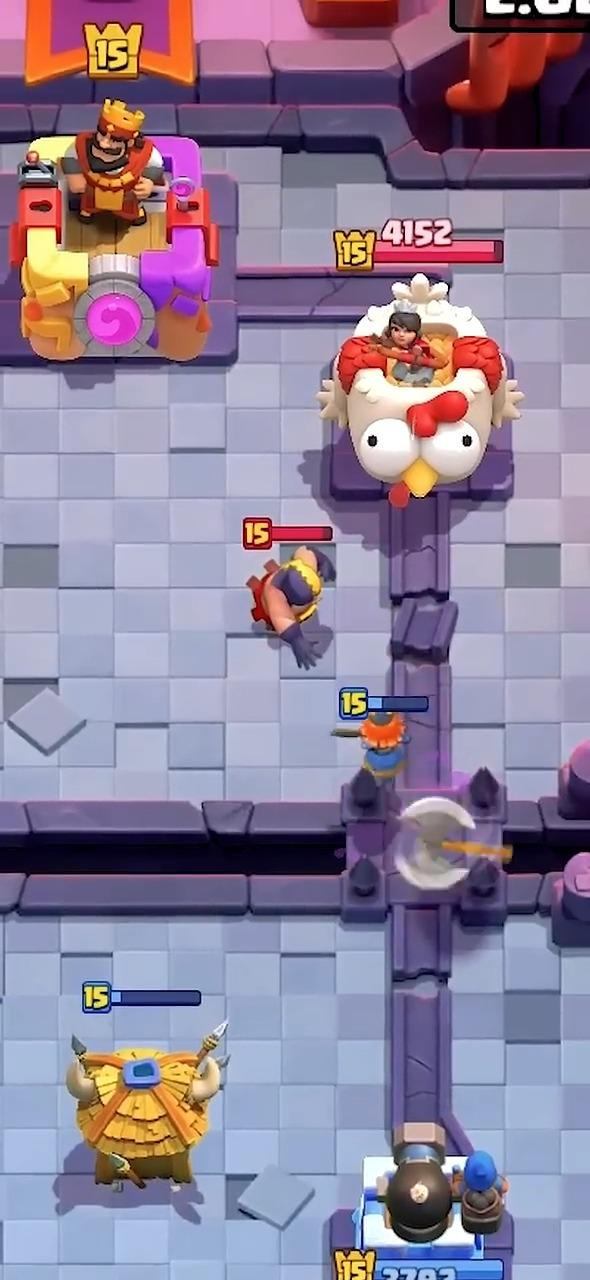executioner: (246, 545, 335, 669)
goblin hut: (65, 1021, 228, 1191)
valkyrie: (332, 712, 409, 786)
